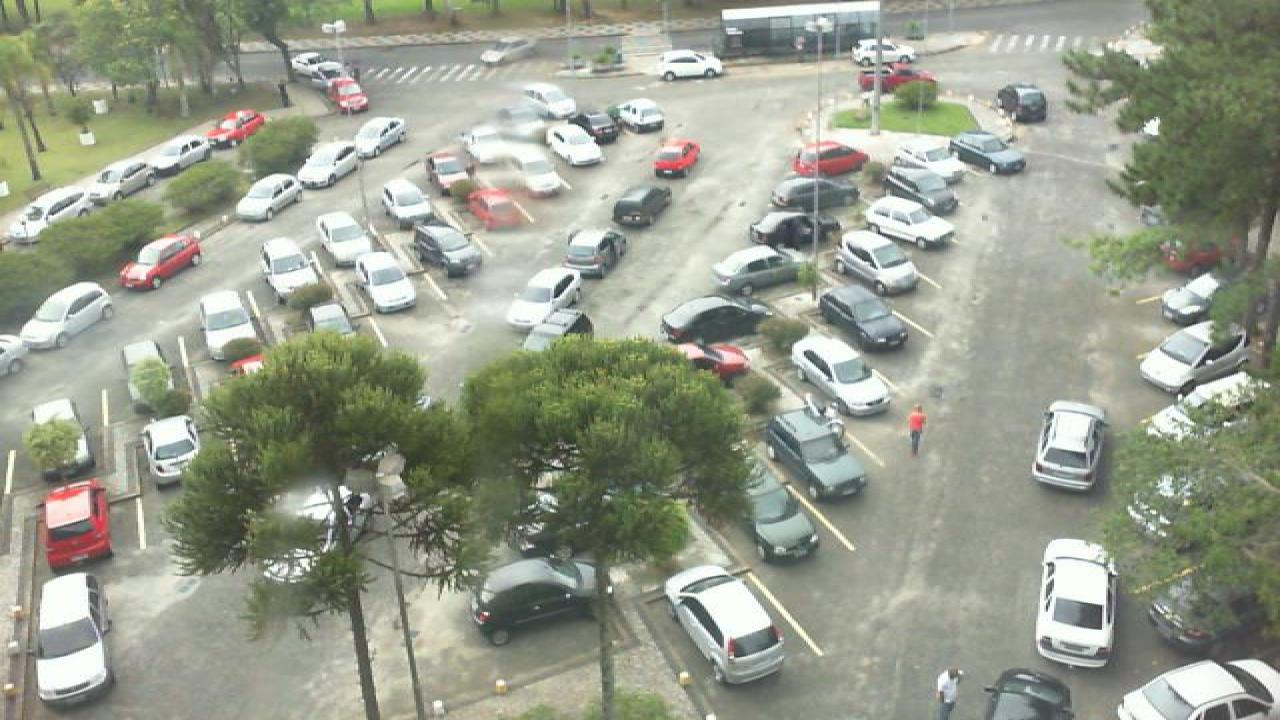Car: (662, 562, 790, 686), (468, 549, 608, 646), (1030, 538, 1124, 669), (34, 572, 118, 706), (1114, 657, 1280, 720), (760, 408, 870, 502), (788, 334, 896, 419), (1138, 320, 1252, 400), (1030, 398, 1112, 494), (742, 469, 822, 566), (42, 478, 118, 570), (18, 281, 114, 352), (814, 285, 912, 351), (834, 228, 922, 297), (660, 295, 776, 345), (706, 246, 812, 298), (862, 194, 958, 250), (984, 667, 1078, 720), (120, 233, 204, 290), (140, 415, 206, 487), (506, 268, 582, 330), (196, 287, 264, 354), (748, 208, 846, 253), (352, 253, 422, 316), (880, 163, 960, 216), (406, 224, 484, 278), (768, 173, 864, 215), (1160, 271, 1234, 324), (950, 128, 1030, 176), (664, 342, 750, 386), (232, 172, 306, 222), (560, 226, 628, 280), (310, 210, 378, 260), (260, 245, 324, 297), (26, 176, 106, 217), (522, 308, 596, 352), (296, 143, 364, 189), (790, 140, 870, 178), (78, 161, 160, 197), (612, 182, 674, 228), (888, 145, 958, 185), (504, 156, 570, 198), (542, 124, 604, 168), (466, 186, 524, 232), (652, 48, 730, 82), (144, 133, 214, 170), (350, 115, 410, 158), (424, 148, 476, 197), (994, 82, 1050, 126), (206, 108, 268, 144), (852, 37, 920, 69), (650, 137, 702, 178), (522, 84, 578, 120), (612, 98, 666, 134), (566, 109, 618, 145), (856, 69, 930, 92), (328, 76, 370, 114)
